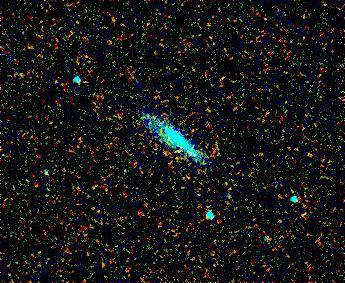star: (177, 117, 207, 147)
